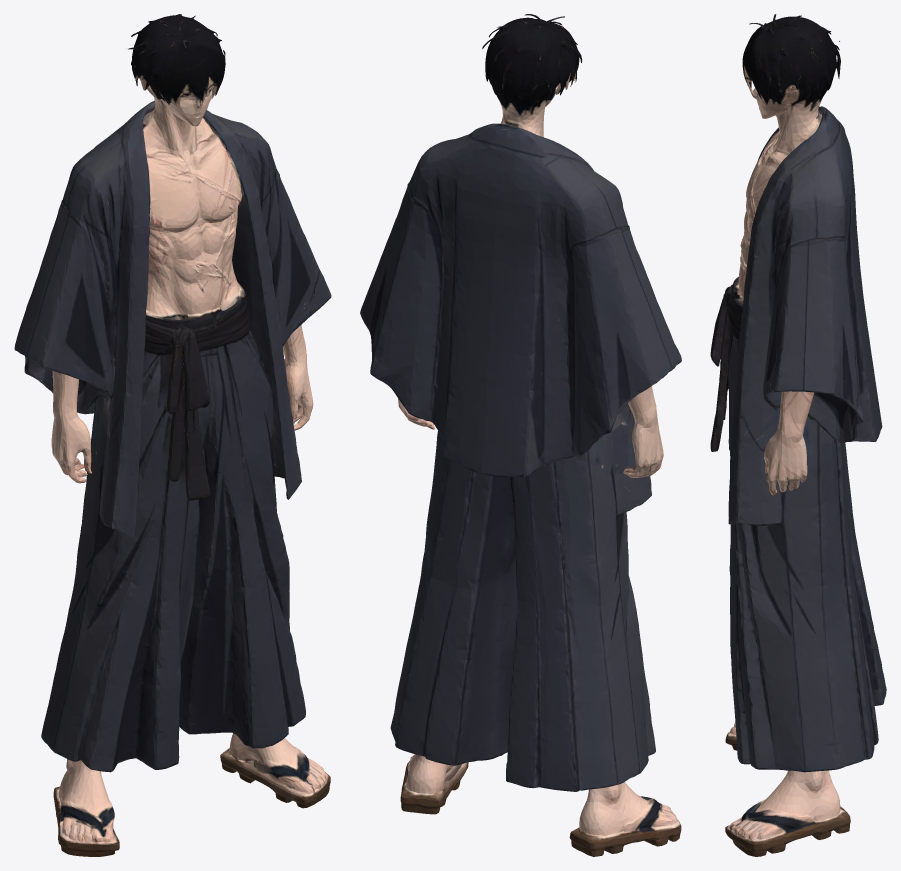
The model's file is anime_man_traditional_robe.glb.
3 renders of one model, left to right at view 1: azimuth 30°, elevation 25°; view 2: azimuth 150°, elevation 25°; view 3: azimuth 270°, elevation 25°, orthographic. The views are drawn at different scales.
Parts seen in each view (by area): view 1: world; view 2: world; view 3: world.
Part boxes in pixels (box(x1,y1,x2,y2)): world: box(14, 14, 331, 856); world: box(360, 14, 681, 856); world: box(710, 14, 886, 856).
Size of the model in its own units: 0.7799 by 2 by 0.4118.
Materials: 1 (1 with a texture image).
